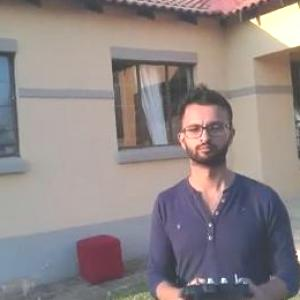follow: (145, 78, 300, 299)
null: (1, 260, 53, 299)
